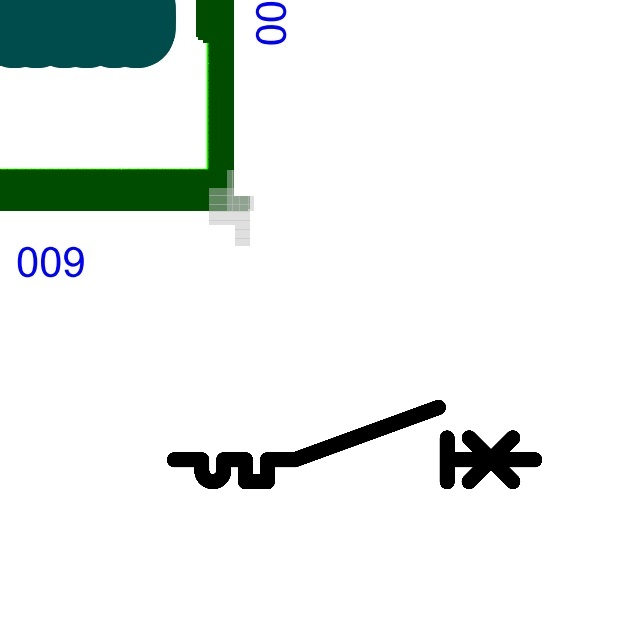interruptor_termomagnetico: (165, 398, 544, 491)
